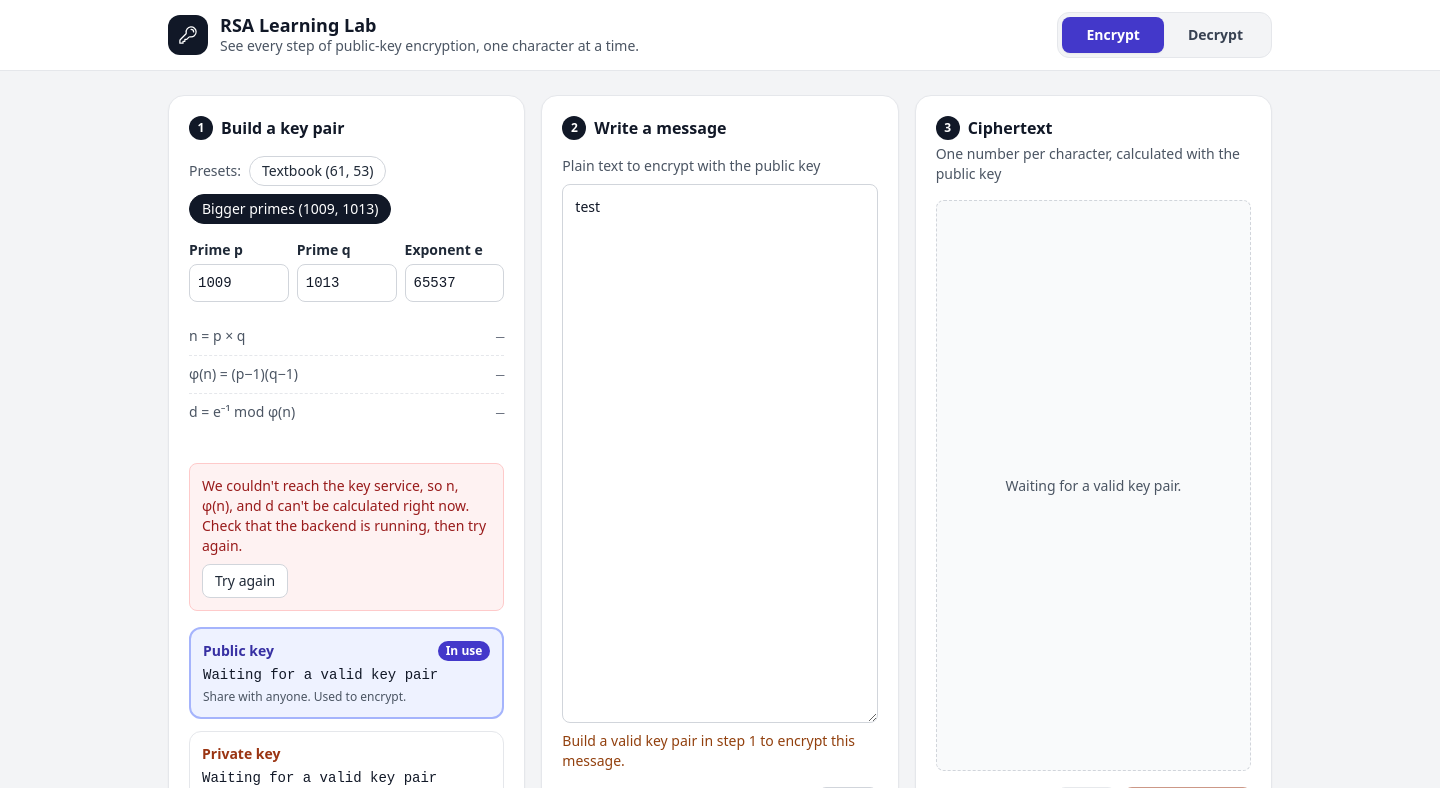
Test: validation, loading, and failure states › reports an API failure without clearing inputs and recovers on retry
This screenshot has width=1440, height=788.
expect the message shows "couldn't reach the key service": met, box 202,476 -> 486,555
expect the field labelled "Prime p" holds "1009": met, box 189,264 -> 289,302
What coordinates should you click on to do the following:
click the button "Try again"
I would click on:
 (245, 581)
Its box is 202,564 -> 288,598.
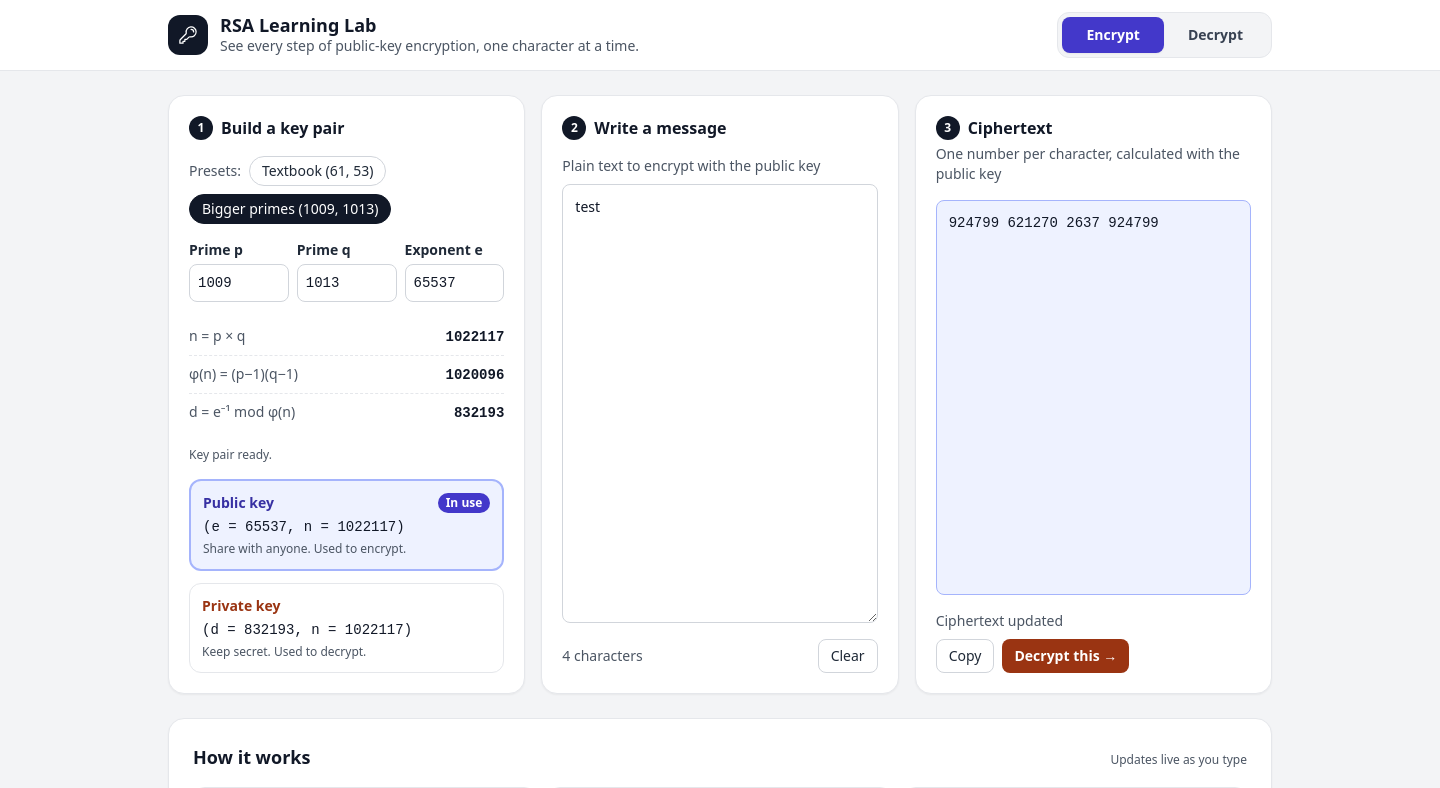
expect the text "Key pair ready." is shown: met, box 189,446 -> 272,463
expect the text "1022117" is shown: met, box 446,327 -> 504,347
expect the text "1020096" is shown: met, box 446,365 -> 504,385
